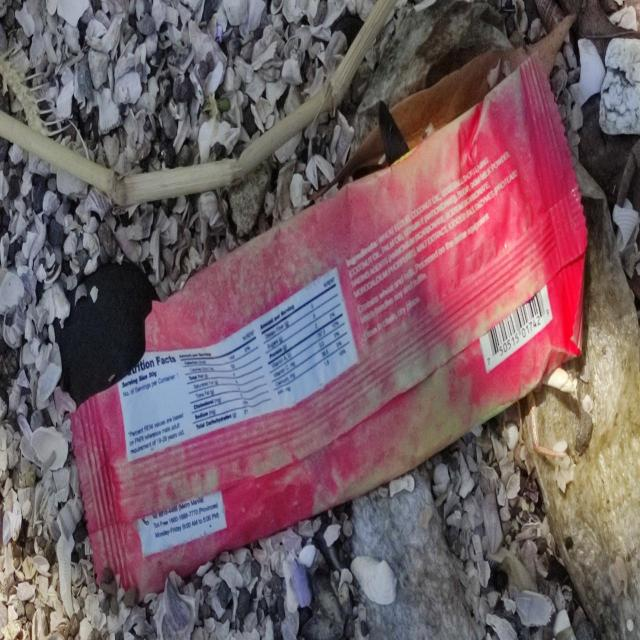plastic_waste: (67, 48, 591, 604)
